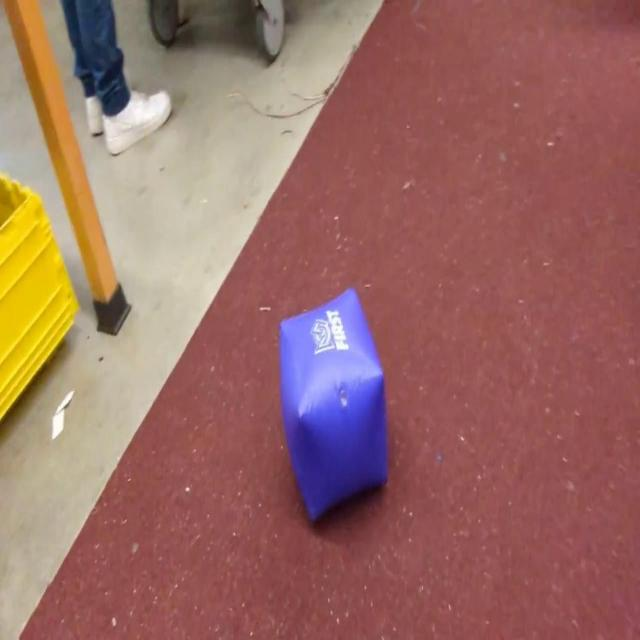frc_cube: (276, 288, 386, 530)
